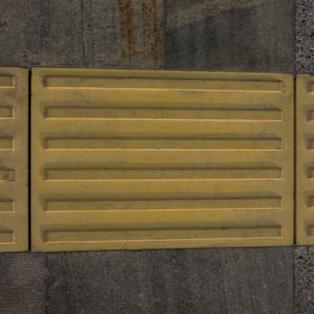Podoctatil: (0, 42, 314, 274)
